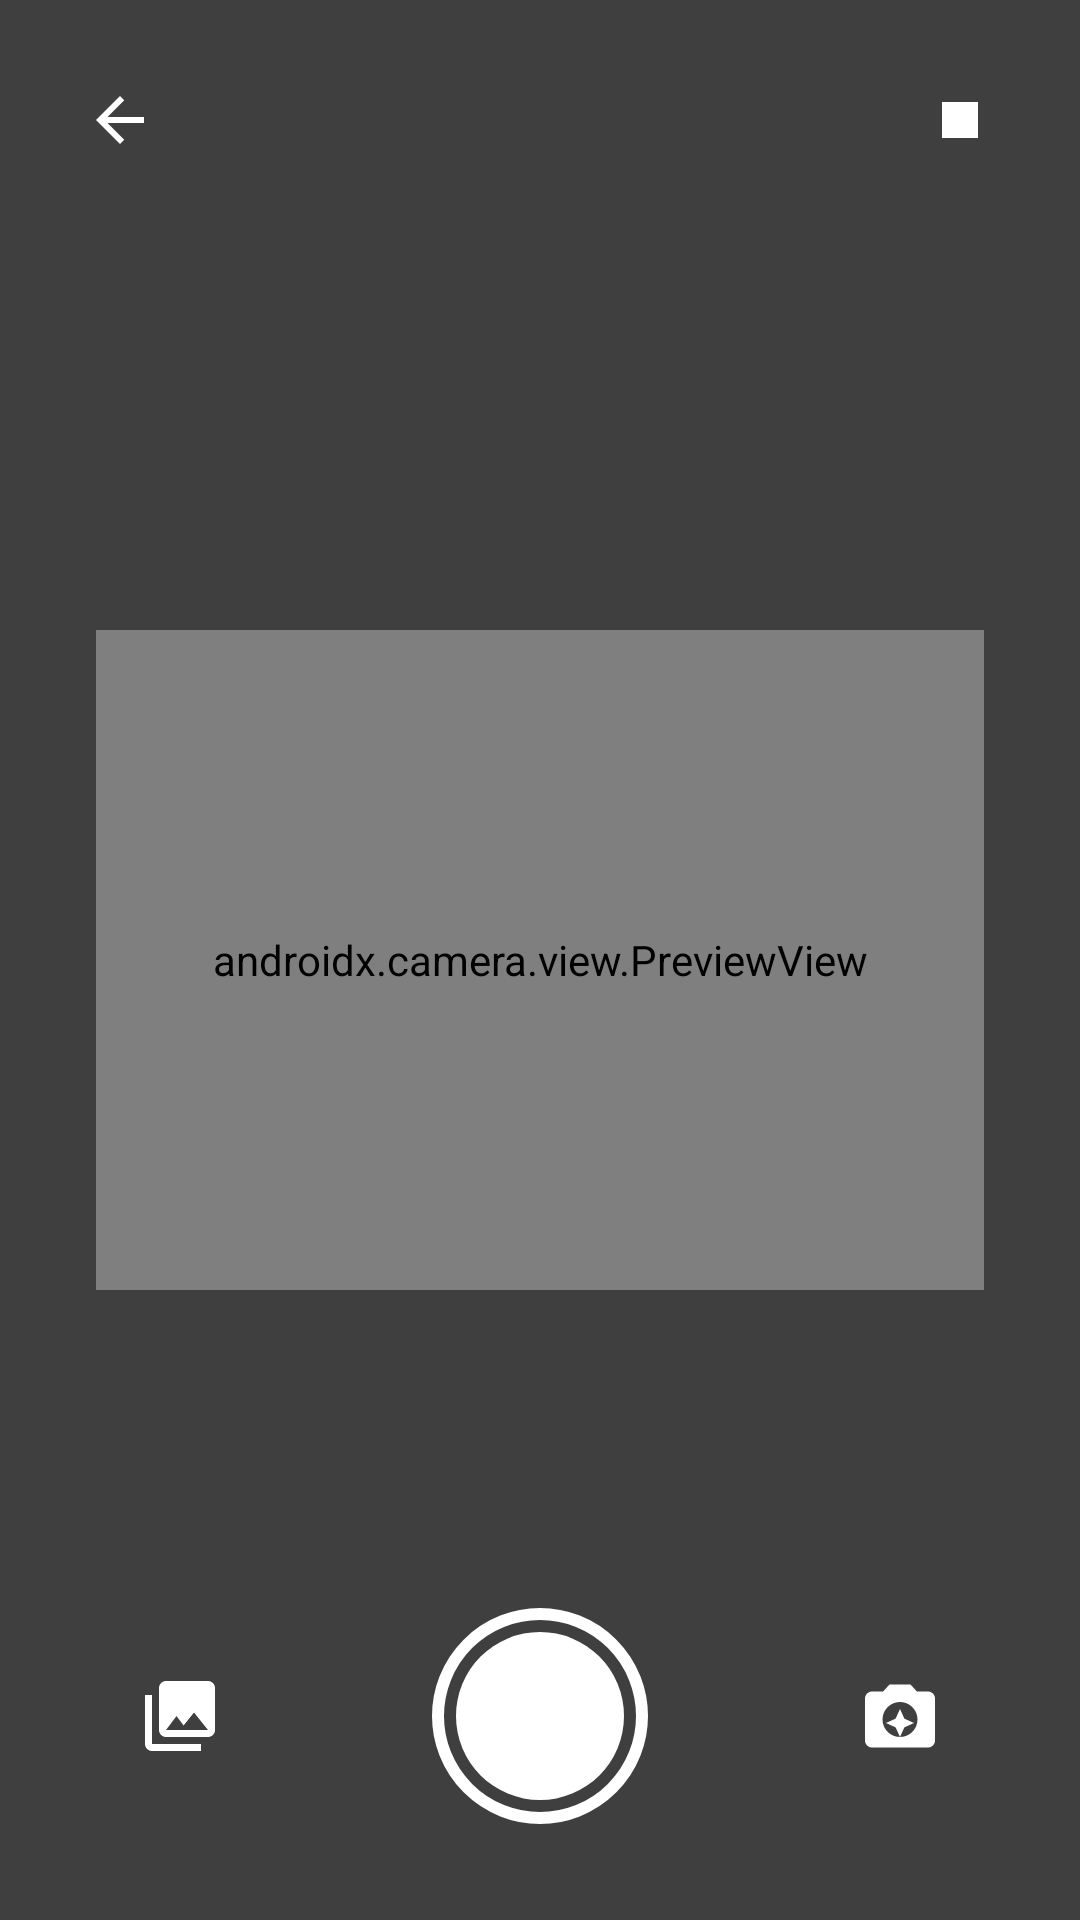

Screen size 1080px×1920px. Icon name, then its center in pixels as (x=x, y=y):
Back: (x=120, y=120)
Open Gallery: (x=180, y=1716)
